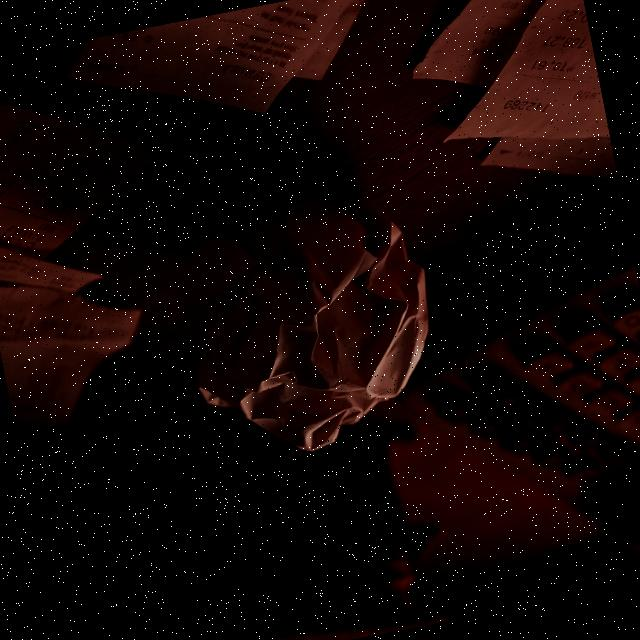paper: (149, 170, 452, 464)
